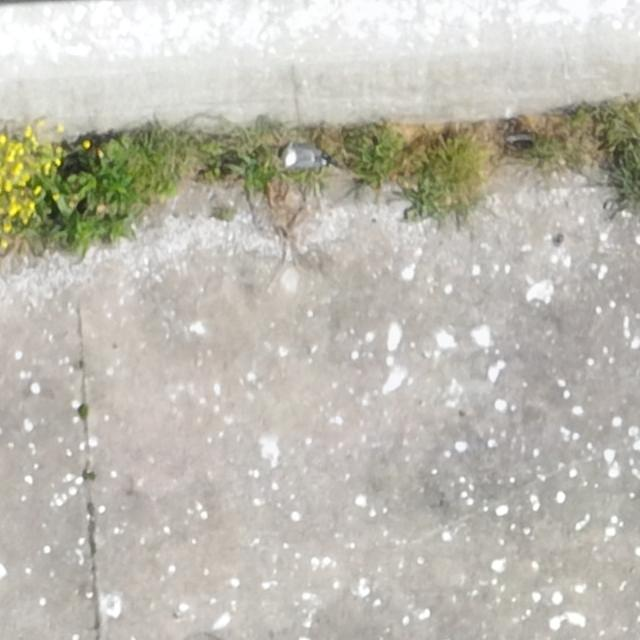umineko: (284, 148, 324, 169)
